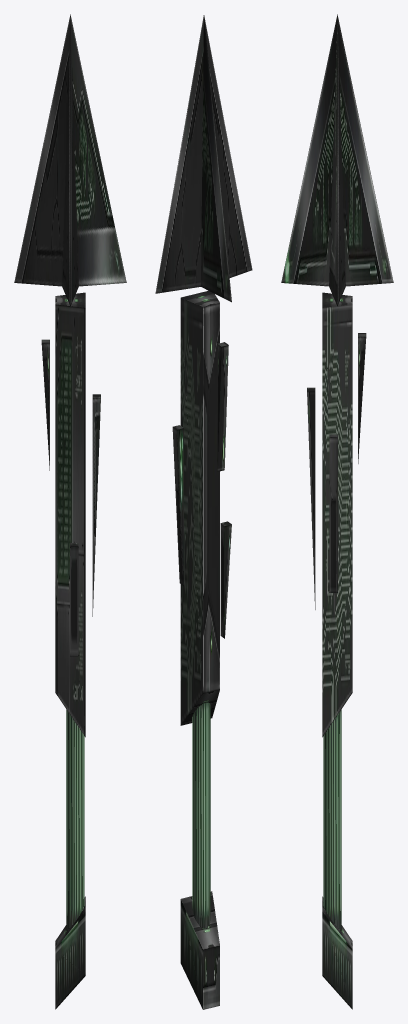
Rendered from tampered_lance.glb.
3 renders of one model, left to right at view 1: azimuth 90°, elevation 25°; view 2: azimuth 210°, elevation 25°; view 3: azimuth 270°, elevation 25°, orthographic.
Visible parts, largest first — view 1: tampered_lance; view 2: tampered_lance; view 3: tampered_lance.
Boxes of the visible parts, x1,y1,x2,y2 form: tampered_lance: (14, 14, 126, 1009); tampered_lance: (155, 15, 252, 1009); tampered_lance: (281, 14, 393, 1009).
Size of the model in its own units: 0.1472 by 1.43 by 0.1472.
Materials: 1 (1 with a texture image).
